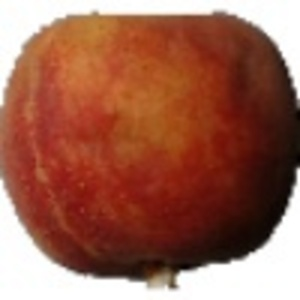pêssego: (1, 10, 300, 292)
